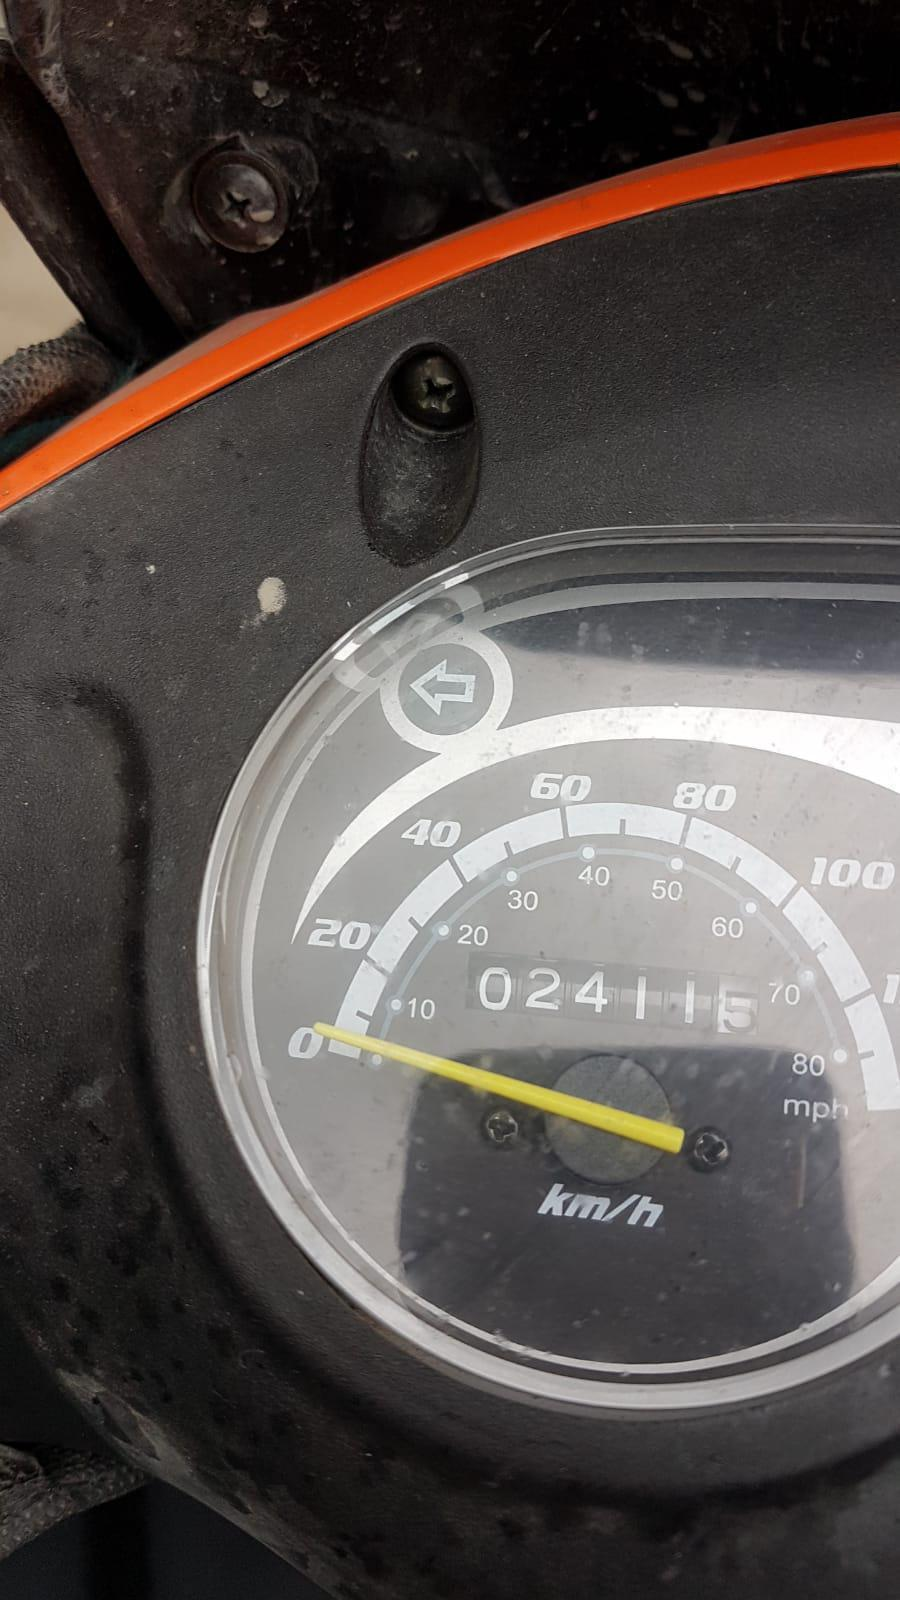0: (477, 964, 513, 1012)
1: (631, 971, 651, 1023), (681, 976, 701, 1026)
2: (523, 965, 562, 1013)
4: (574, 965, 610, 1014)
5: (720, 985, 760, 1034)
odometer: (457, 949, 769, 1045)
